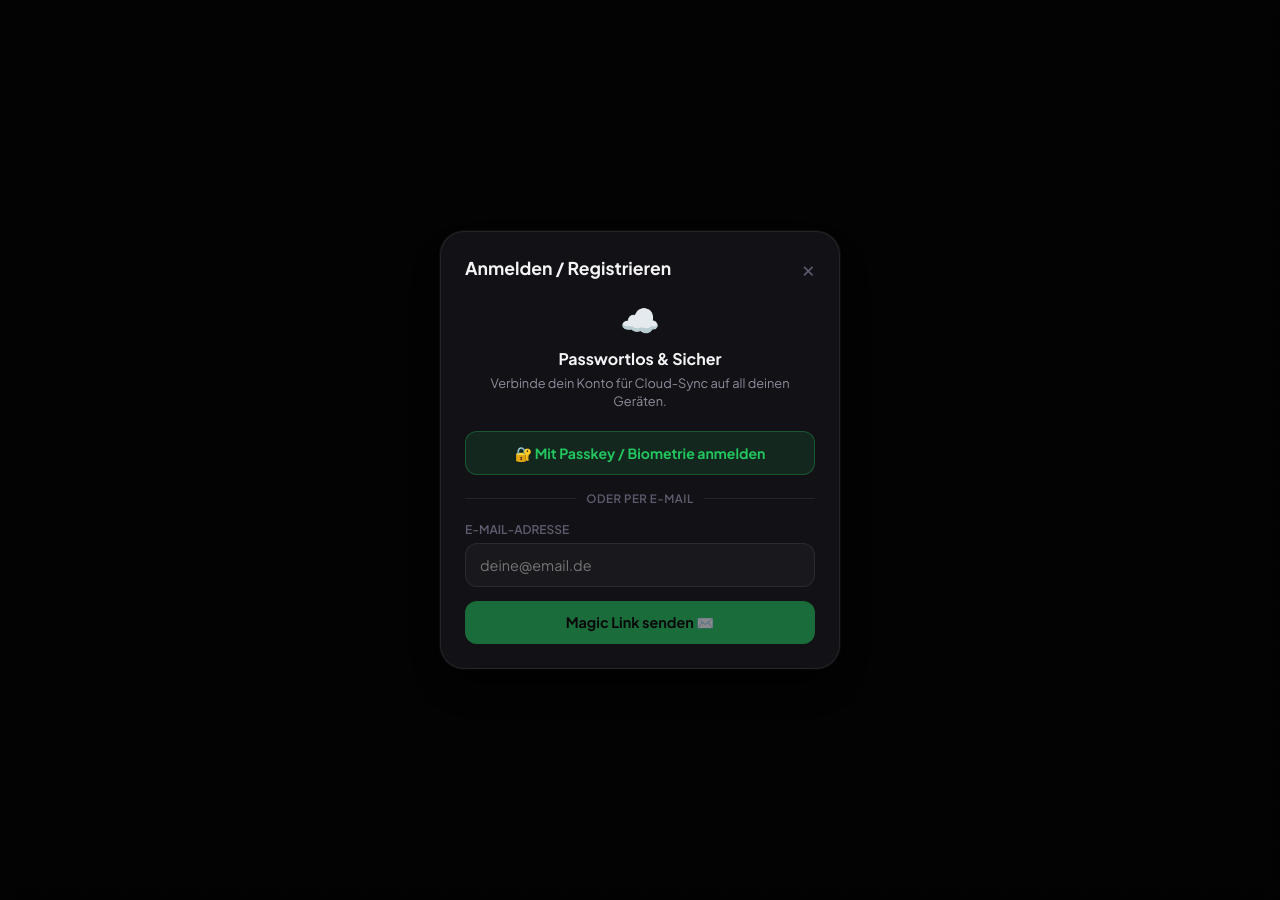
AuthModal component › submits magic link request on valid email
Type "test@example.com" into the field labelled "E-Mail-Adresse". click: (640, 565)
box: [465, 543, 815, 587]
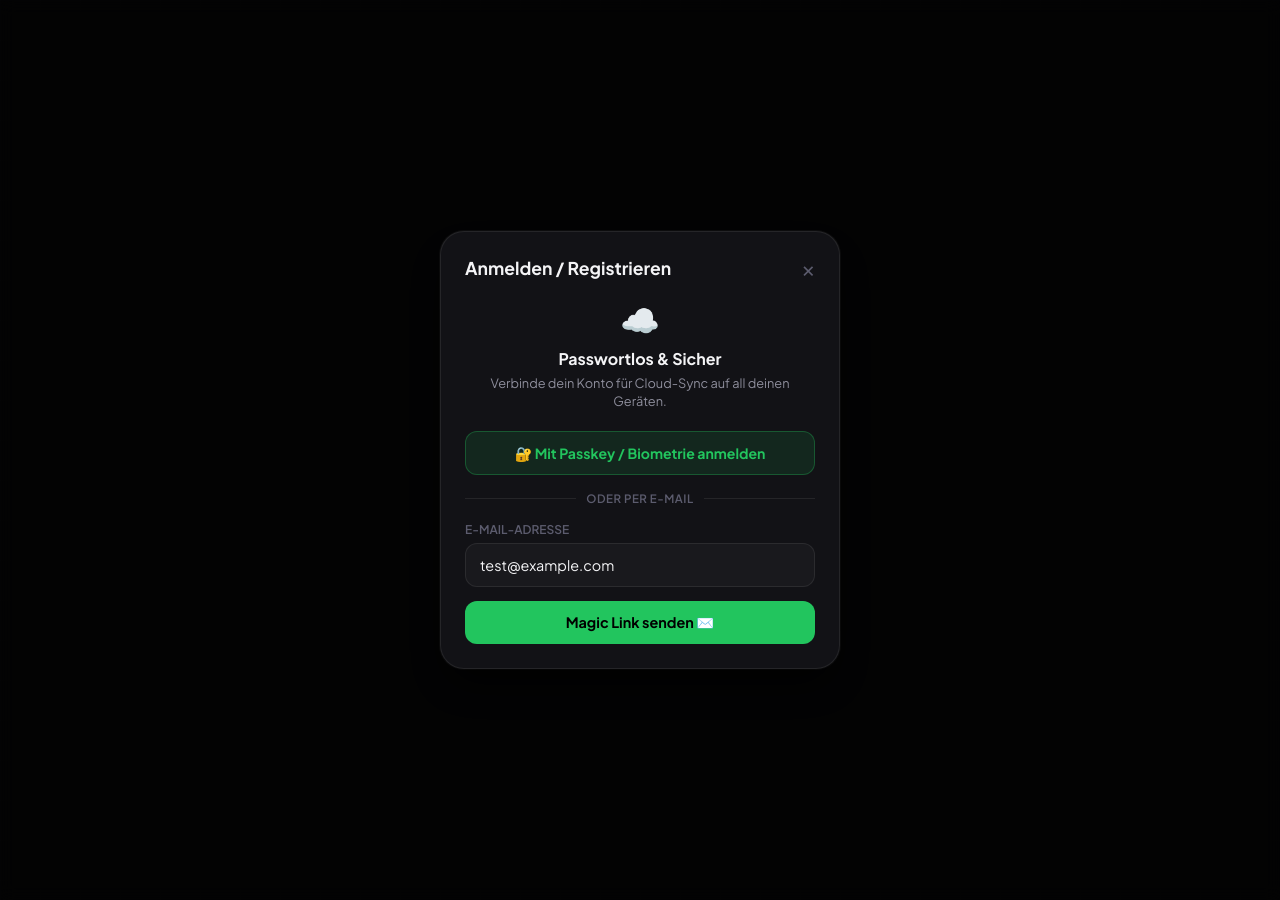
Click the button with class "auth-primary-btn". click: (640, 622)
box: [465, 601, 815, 644]
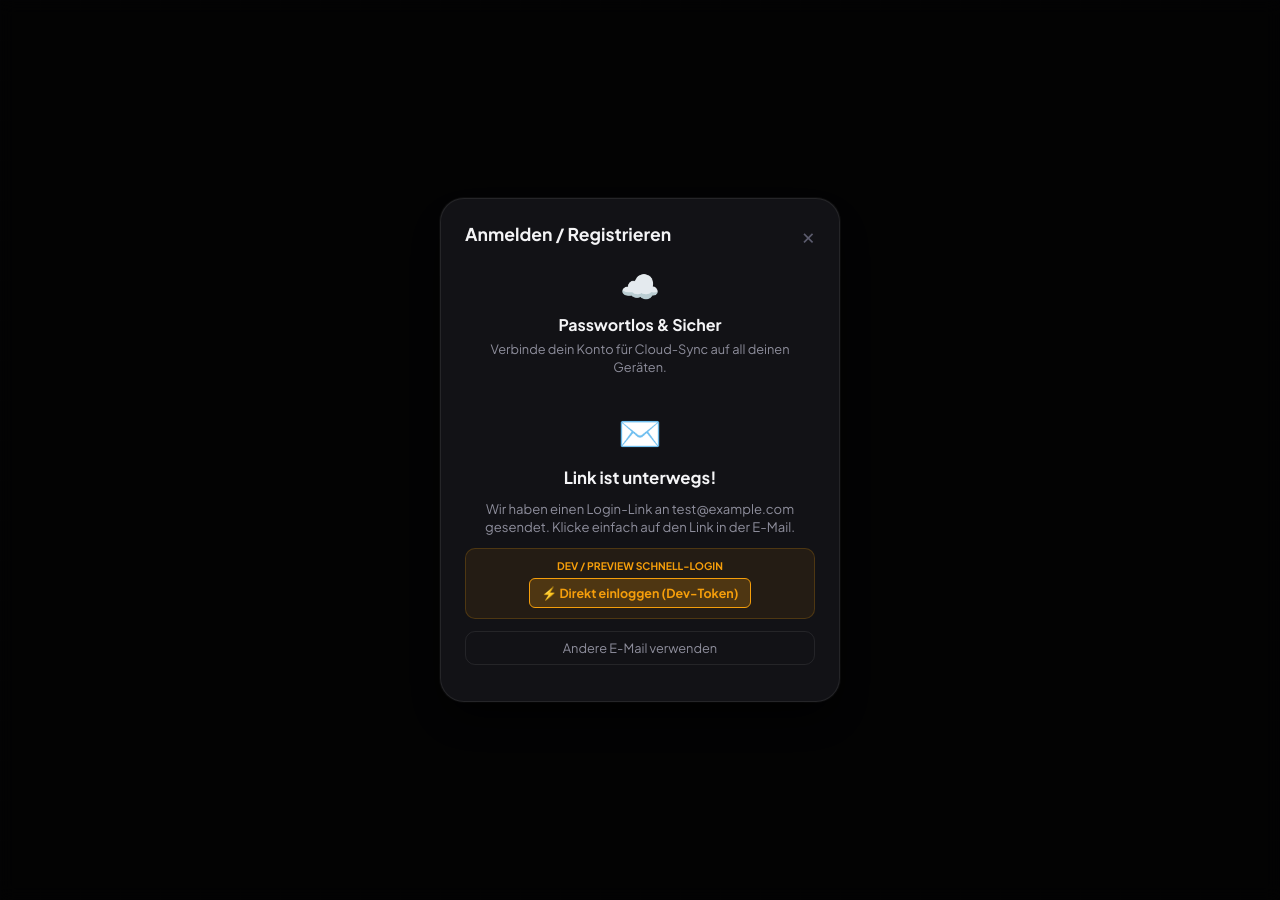
Check: the text "Link ist unterwegs!" is shown, box [564, 467, 716, 488]
Check: the text "test@example.com" is shown, box [485, 500, 795, 535]
Check: the button with class "dev-login-btn" is shown, box [529, 578, 751, 608]
